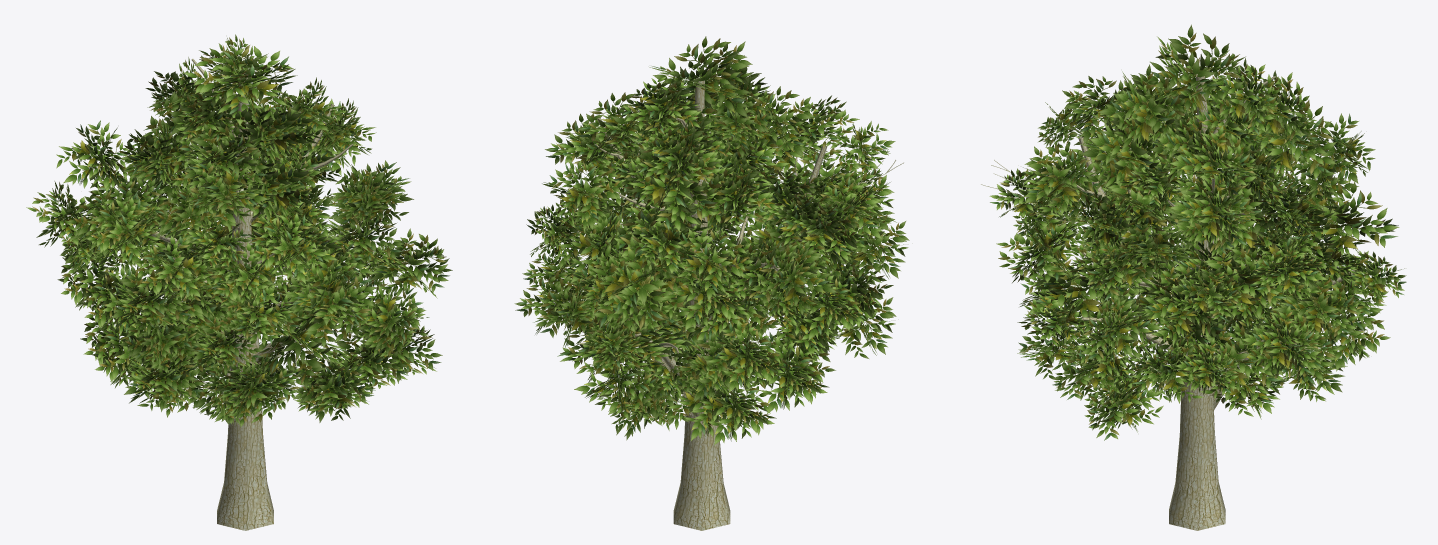
Rendered from Tree_002.fbx.
3 renders of one model, left to right at view 1: azimuth 30°, elevation 25°; view 2: azimuth 150°, elevation 25°; view 3: azimuth 270°, elevation 25°, orthographic.
Parts seen in each view (by area): view 1: polySurface465; view 2: polySurface465; view 3: polySurface465.
Part boxes in pixels (x1,y1,x2,y2): polySurface465: (26,34,452,530); polySurface465: (514,36,909,530); polySurface465: (981,24,1406,530).
Bounding box in the file's own units: 2871 × 3711 × 3146.
